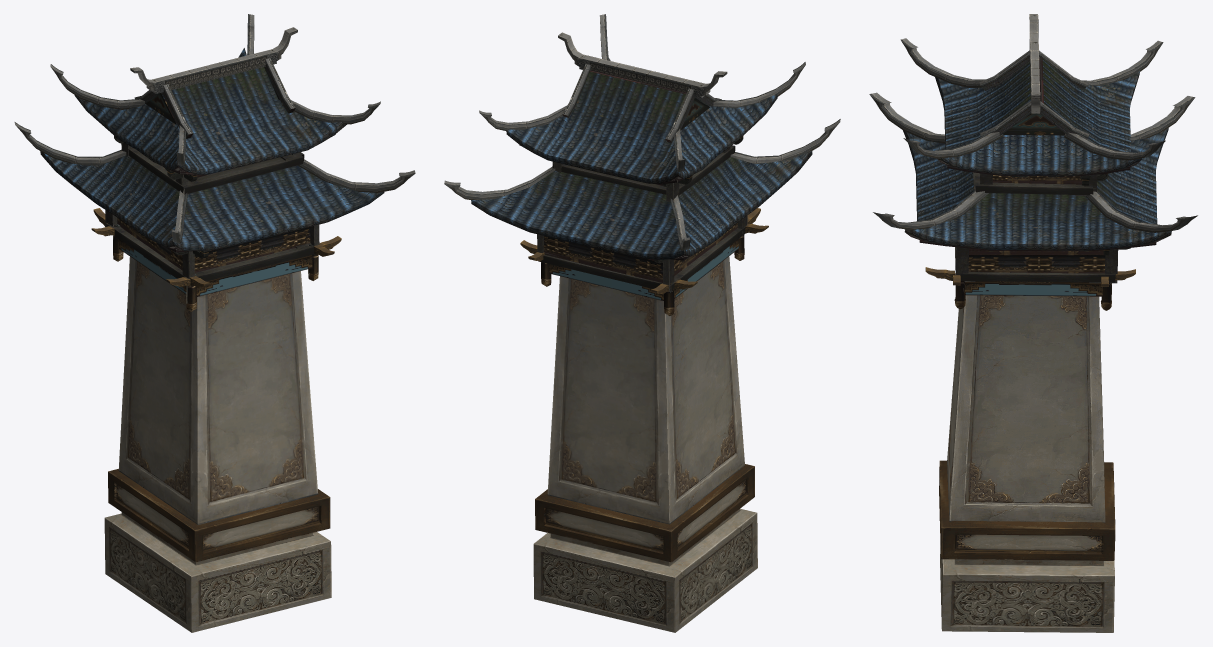
Rendered from jd_fan_1.FBX.
3 renders of one model, left to right at view 1: azimuth 30°, elevation 25°; view 2: azimuth 150°, elevation 25°; view 3: azimuth 270°, elevation 25°, orthographic.
Visible parts, largest first — view 1: jd_fan_1; view 2: jd_fan_1; view 3: jd_fan_1.
Boxes of the visible parts, x1=… form: jd_fan_1: x1=14, y1=14, x2=415, y2=632; jd_fan_1: x1=444, y1=14, x2=840, y2=632; jd_fan_1: x1=869, y1=14, x2=1197, y2=632.
Size of the model in its own units: 71.81 by 148 by 81.24.
